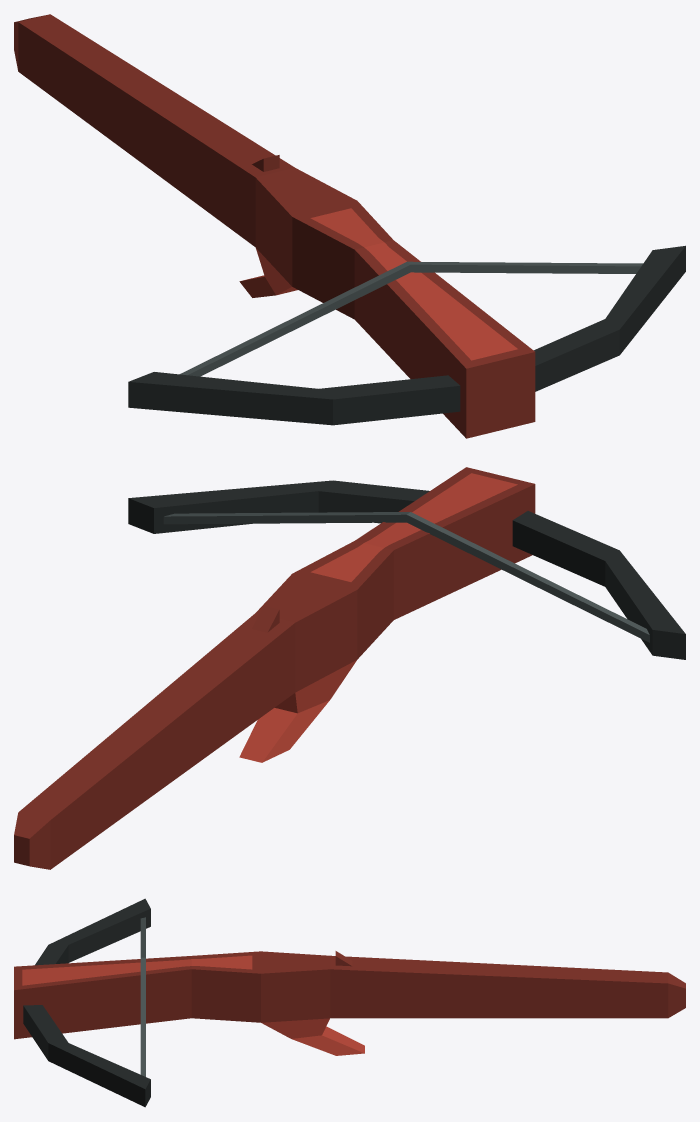
File: Crossbow_1_Red.fbx
3 views of the same model, one above another, from view 1: azimuth 30°, elevation 25°; view 2: azimuth 150°, elevation 25°; view 3: azimuth 270°, elevation 25° (orthographic). The views are drawn at different scales.
Visible parts, largest first — view 1: Crossbow_1_Red_Part_1, Crossbow_1_Red_Part_2, Crossbow_1_Red_Part_4, Crossbow_1_Red_Part_3; view 2: Crossbow_1_Red_Part_1, Crossbow_1_Red_Part_2, Crossbow_1_Red_Part_4, Crossbow_1_Red_Part_3; view 3: Crossbow_1_Red_Part_1, Crossbow_1_Red_Part_2, Crossbow_1_Red_Part_4, Crossbow_1_Red_Part_3.
Part boxes in pixels (left/top/right/bottom): Crossbow_1_Red_Part_1: left=14, top=14, right=535, bottom=438; Crossbow_1_Red_Part_2: left=128, top=245, right=685, bottom=425; Crossbow_1_Red_Part_4: left=239, top=208, right=517, bottom=360; Crossbow_1_Red_Part_3: left=180, top=261, right=643, bottom=376; Crossbow_1_Red_Part_1: left=14, top=467, right=535, bottom=869; Crossbow_1_Red_Part_2: left=128, top=480, right=685, bottom=659; Crossbow_1_Red_Part_4: left=239, top=473, right=517, bottom=762; Crossbow_1_Red_Part_3: left=163, top=512, right=649, bottom=642; Crossbow_1_Red_Part_1: left=14, top=951, right=685, bottom=1039; Crossbow_1_Red_Part_2: left=23, top=898, right=150, bottom=1107; Crossbow_1_Red_Part_4: left=22, top=955, right=364, bottom=1055; Crossbow_1_Red_Part_3: left=140, top=917, right=145, bottom=1076.
Size of the model in its own units: 64.29 by 15.12 by 95.68.
